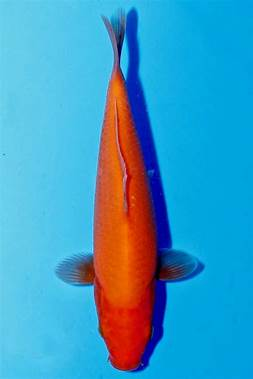red: (55, 9, 201, 371)
